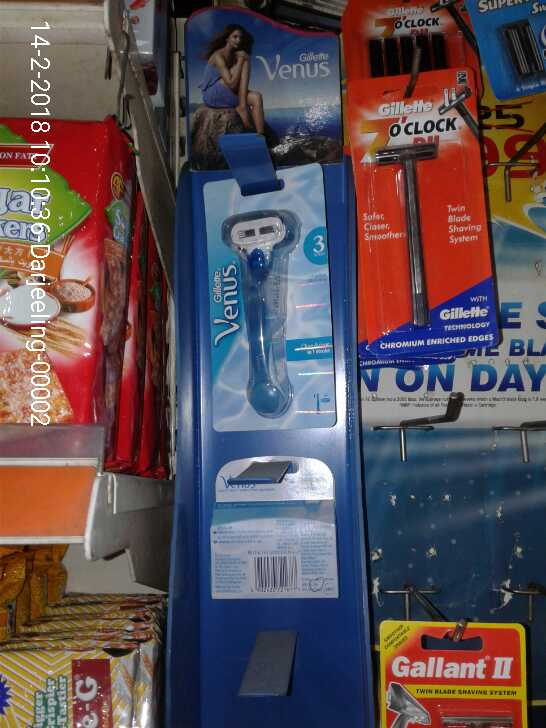beauty: (343, 88, 501, 351), (200, 168, 334, 432)
